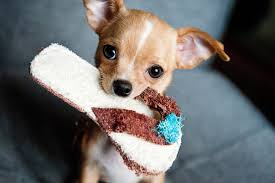Chihuahua: (86, 1, 202, 108)
